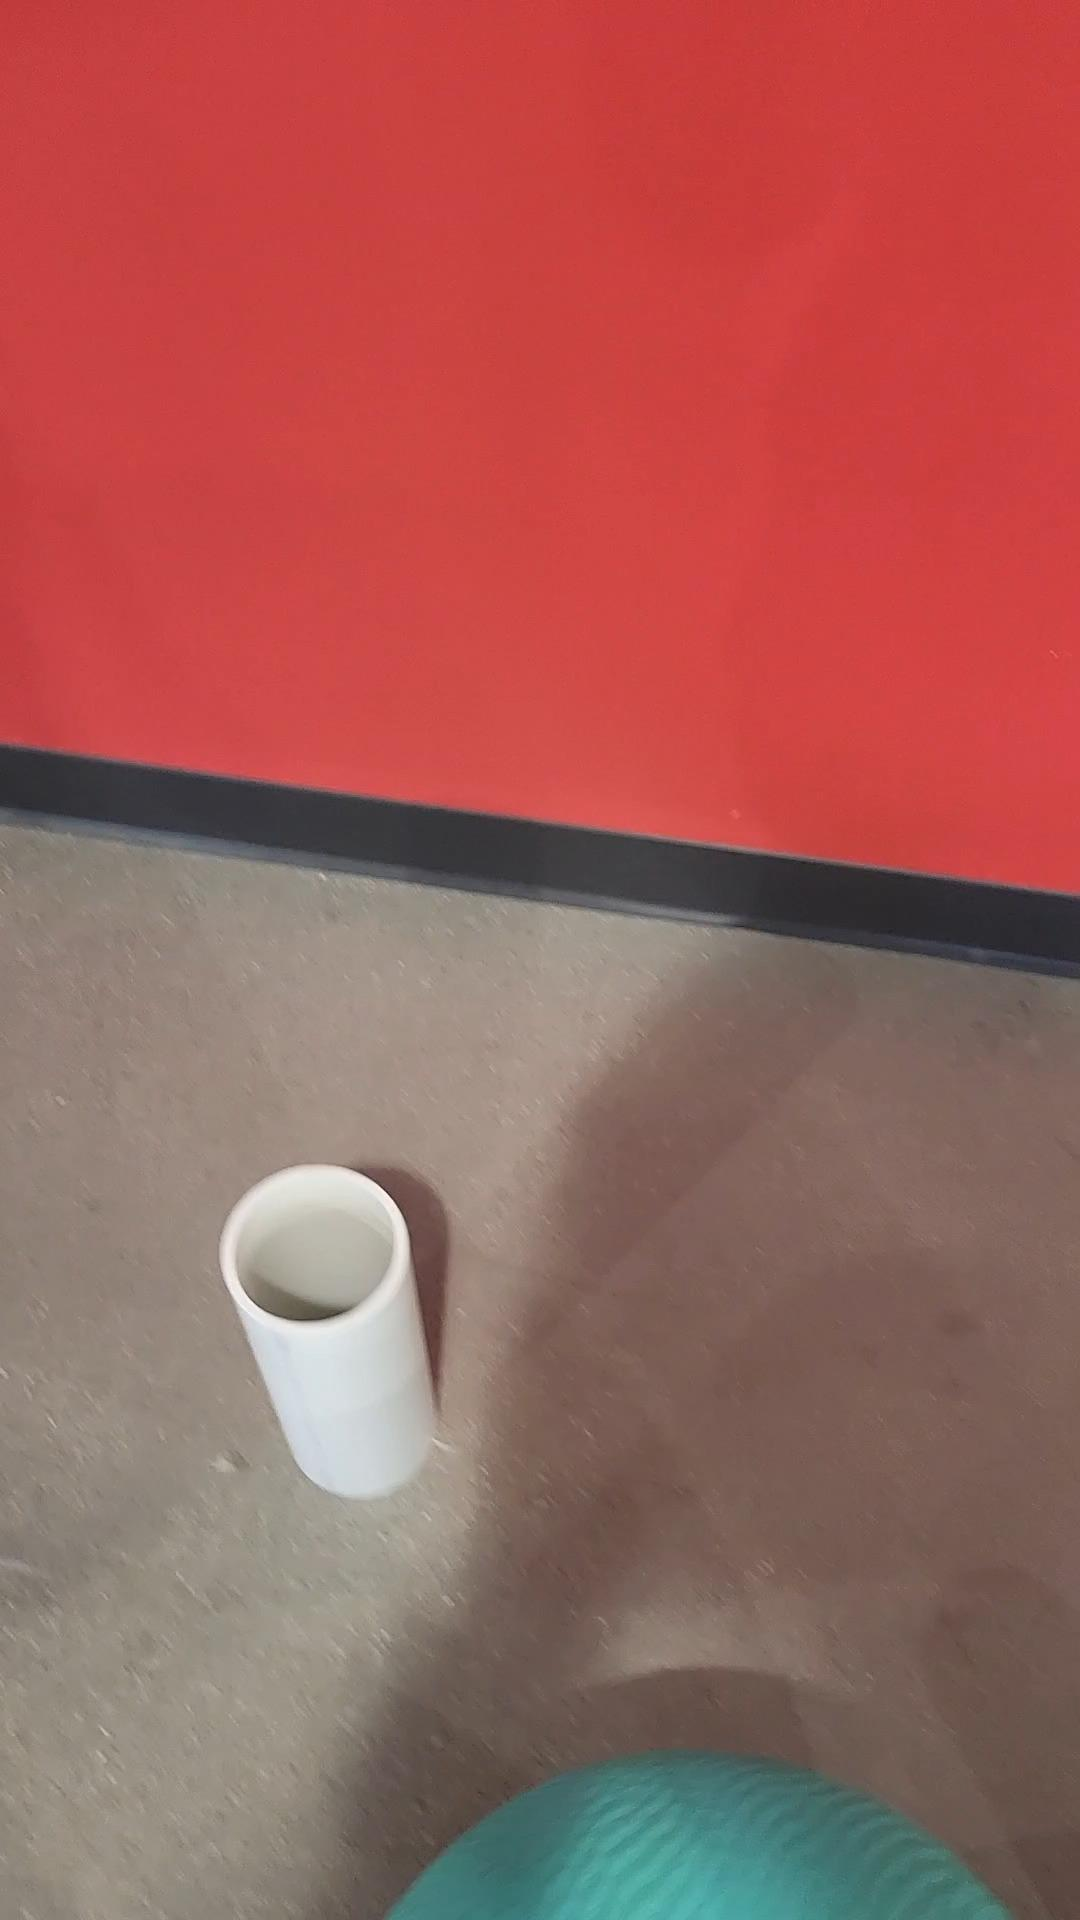algae: (380, 1742, 1019, 1920)
coral: (216, 1160, 444, 1507)
